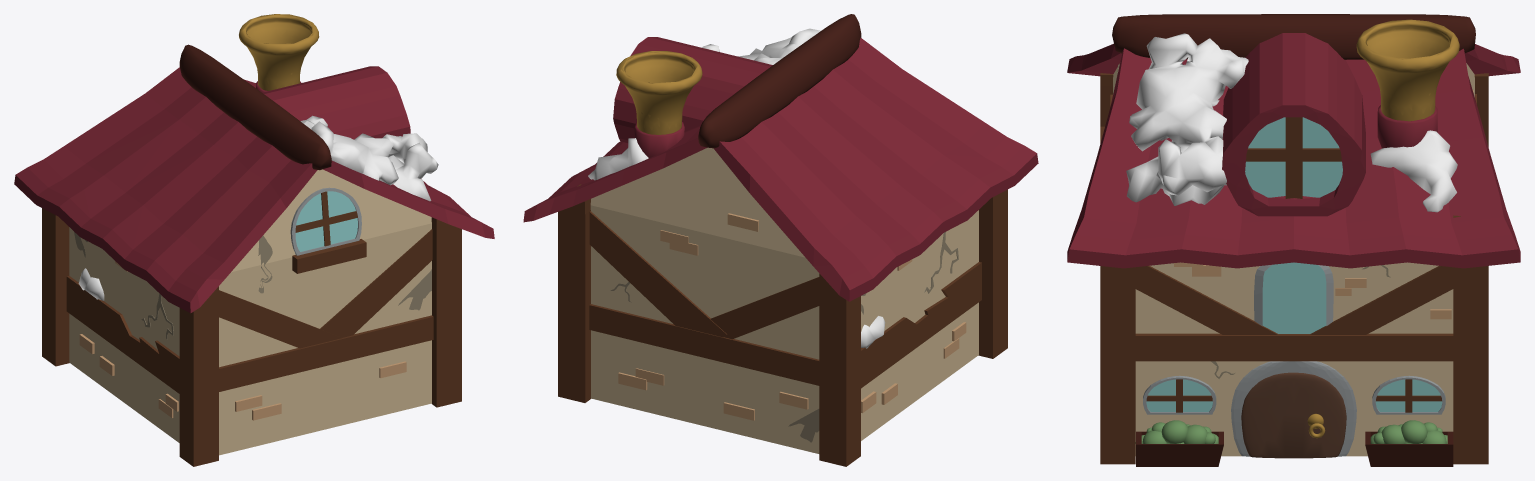
Rendered from CasaPerPrincipal.fbx.
3 views of the same model, side by side, from view 1: azimuth 30°, elevation 25°; view 2: azimuth 150°, elevation 25°; view 3: azimuth 270°, elevation 25° (orthographic). The views are drawn at different scales.
Parts seen in each view (by area): view 1: Base, Tejado.001, VentanaTejado, Tronco arriba, Biga3, Tablonlateral, Biga1, Sphere.003, Chimetuba, Biga4, Tablon atras, Tablonlateralcruzado.001 (+6 smaller); view 2: Base, Tejado.001, Tronco arriba, Biga4, Biga2, Tablonlateral.001, VentanaTejado, Chimetuba, Tablon atras, Biga3, Tablonlateralcruzado.003, Tejado (+3 smaller); view 3: Tejado, Base, Sphere.003, VentanaTejado, Tronco arriba, Tablon, Puerta, Chimetuba, Biga2, Biga1, VentanaMedio, Ventana (+18 smaller).
Part boxes in pixels (x1=…): Base: x1=69, y1=169, x2=431, y2=455; Tejado.001: x1=14, y1=67, x2=317, y2=313; VentanaTejado: x1=262, y1=66, x2=410, y2=139; Tronco arriba: x1=179, y1=44, x2=331, y2=170; Biga3: x1=179, y1=286, x2=218, y2=466; Tablonlateral: x1=219, y1=315, x2=433, y2=391; Biga1: x1=431, y1=217, x2=461, y2=407; Sphere.003: x1=78, y1=115, x2=438, y2=300; Chimetuba: x1=239, y1=14, x2=319, y2=90; Biga4: x1=42, y1=208, x2=69, y2=366; Tablon atras: x1=66, y1=275, x2=179, y2=393; Tablonlateralcruzado.001: x1=320, y1=229, x2=432, y2=337; Base: x1=590, y1=147, x2=978, y2=453; Tejado.001: x1=713, y1=37, x2=1038, y2=301; Tronco arriba: x1=698, y1=14, x2=861, y2=148; Biga4: x1=819, y1=273, x2=860, y2=466; Biga2: x1=558, y1=184, x2=590, y2=402; Tablonlateral.001: x1=589, y1=304, x2=819, y2=385; VentanaTejado: x1=613, y1=37, x2=772, y2=142; Chimetuba: x1=616, y1=51, x2=702, y2=134; Tablon atras: x1=861, y1=262, x2=981, y2=388; Biga3: x1=978, y1=189, x2=1007, y2=358; Tablonlateralcruzado.003: x1=589, y1=211, x2=726, y2=337; Tejado: x1=523, y1=126, x2=706, y2=222; Tejado: x1=1067, y1=48, x2=1520, y2=268; Base: x1=1113, y1=63, x2=1474, y2=456; Sphere.003: x1=1126, y1=33, x2=1457, y2=212; VentanaTejado: x1=1222, y1=33, x2=1365, y2=216; Tronco arriba: x1=1112, y1=14, x2=1475, y2=59; Tablon: x1=1135, y1=333, x2=1453, y2=361; Puerta: x1=1241, y1=372, x2=1346, y2=458; Chimetuba: x1=1356, y1=19, x2=1459, y2=121; Biga2: x1=1453, y1=215, x2=1488, y2=464; Biga1: x1=1100, y1=266, x2=1135, y2=464; VentanaMedio: x1=1262, y1=262, x2=1326, y2=333; Ventana: x1=1245, y1=117, x2=1342, y2=197.
Bounding box in the file's own units: 449 × 423 × 451.
